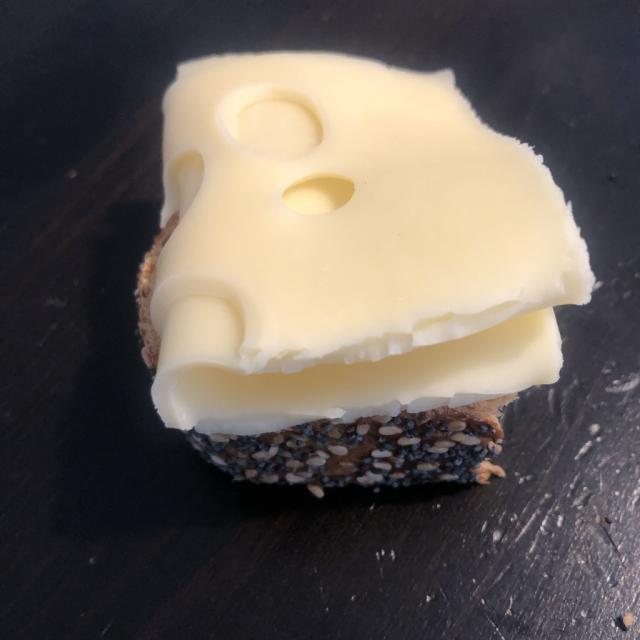bread-grain: (127, 212, 521, 499)
emmental-cheese: (130, 52, 588, 444)
